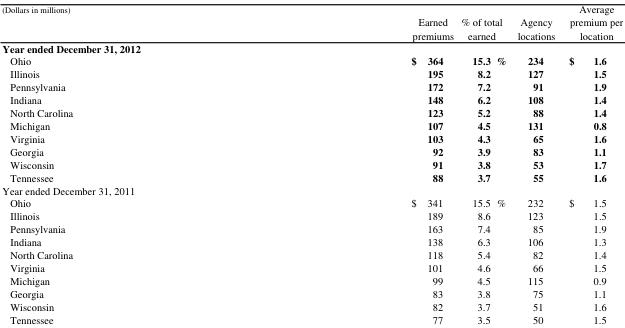table: (1, 1, 622, 325)
table column: (1, 1, 241, 325), (241, 1, 456, 325), (561, 1, 622, 325), (456, 1, 511, 325), (511, 1, 561, 325)
table column header: (1, 1, 622, 41)
table projected row header: (1, 41, 622, 54), (1, 183, 622, 195)
table row: (1, 1, 622, 41), (1, 41, 622, 54), (1, 54, 622, 67), (1, 67, 622, 80), (1, 80, 622, 93), (1, 105, 622, 118), (1, 118, 622, 131), (1, 131, 622, 144), (1, 144, 622, 157), (1, 157, 622, 170), (1, 170, 622, 183), (1, 195, 622, 208), (1, 208, 622, 221), (1, 221, 622, 234), (1, 234, 622, 247), (1, 247, 622, 260), (1, 260, 622, 273), (1, 273, 622, 286), (1, 286, 622, 299), (1, 299, 622, 312), (1, 312, 622, 325), (1, 93, 622, 105), (1, 183, 622, 195)
